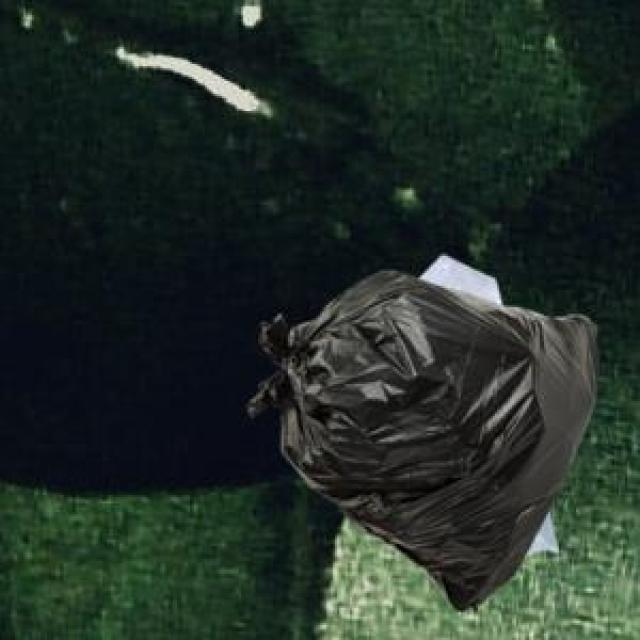miscellaneous trash: (243, 267, 593, 606)
